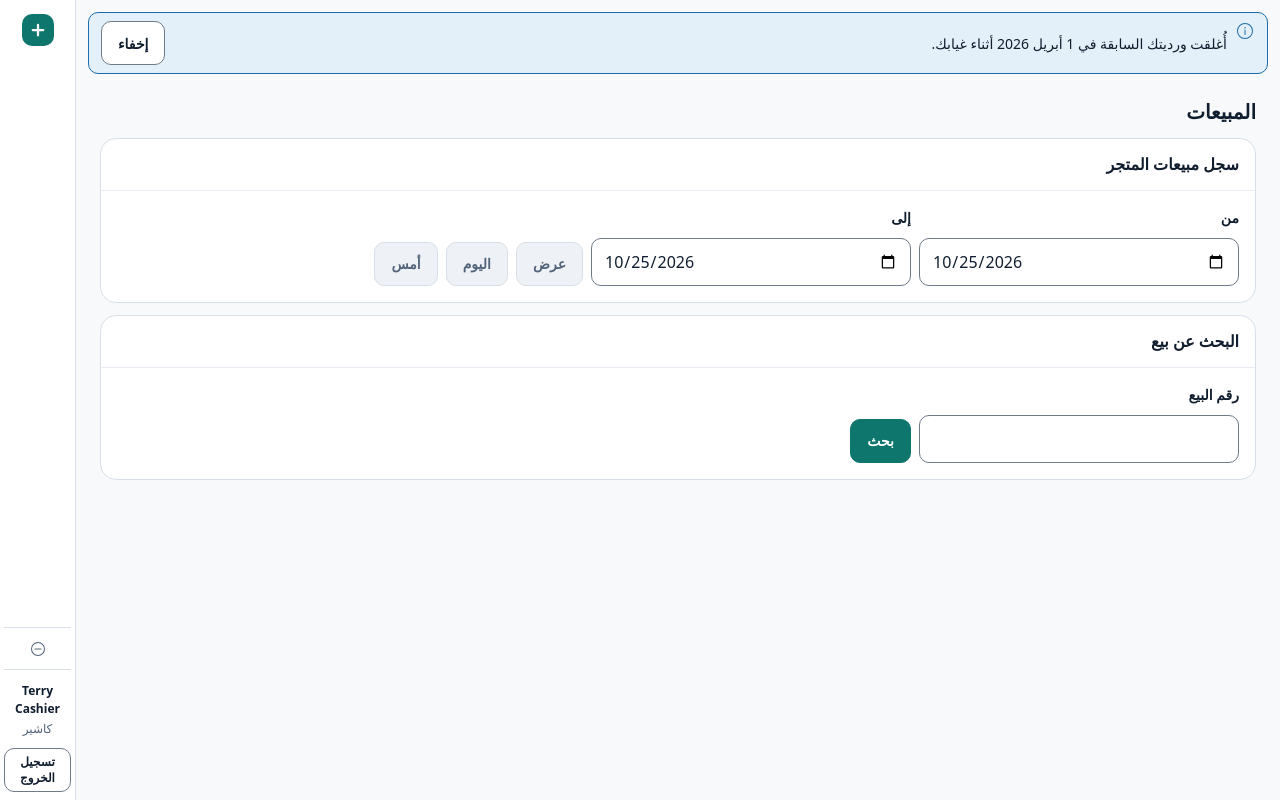
Test: V5 frame — banner from store › dismiss button clears the banner from the DOM
Expected: the message with test id "shift-closed-banner" is shown, [88,12,1268,74]
Click the button with test id "shift-closed-banner-dismiss".
click(133, 43)  # box [101,21,166,65]
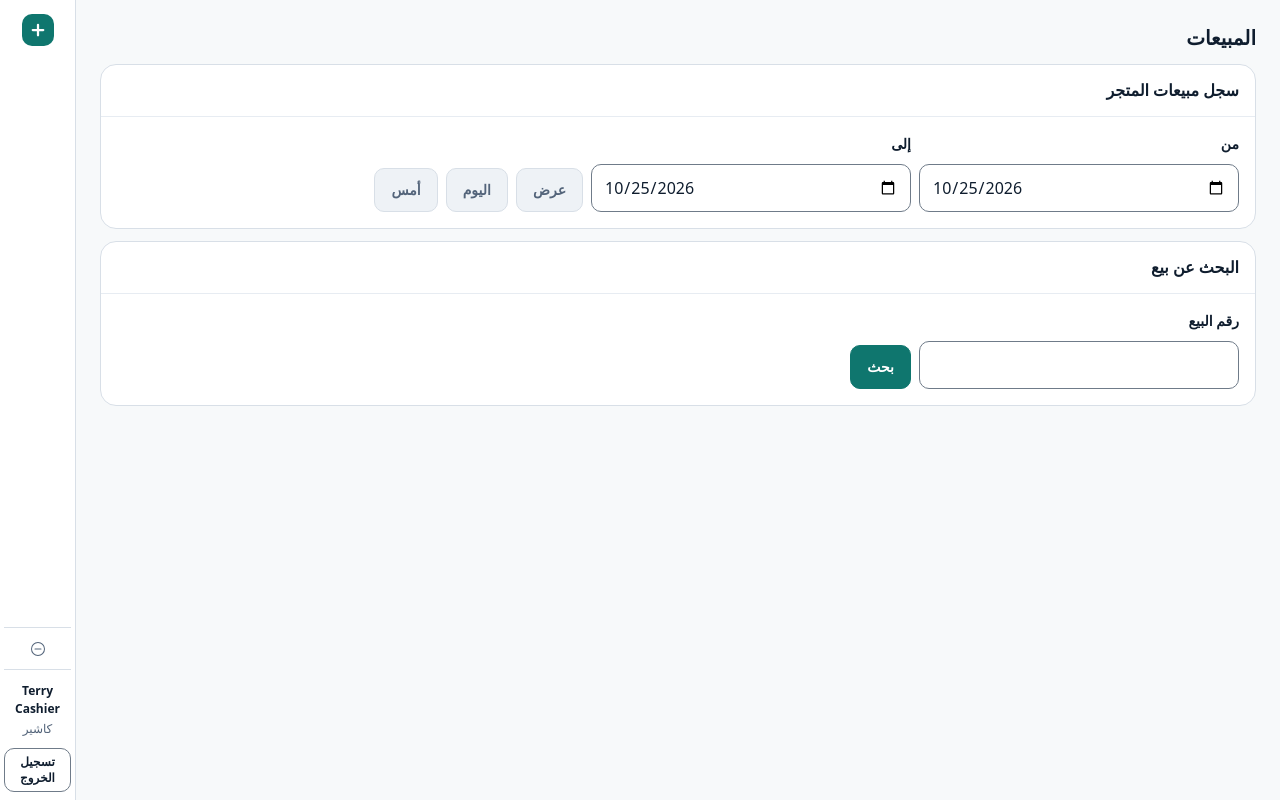
Result: the message with test id "shift-closed-banner" is gone
